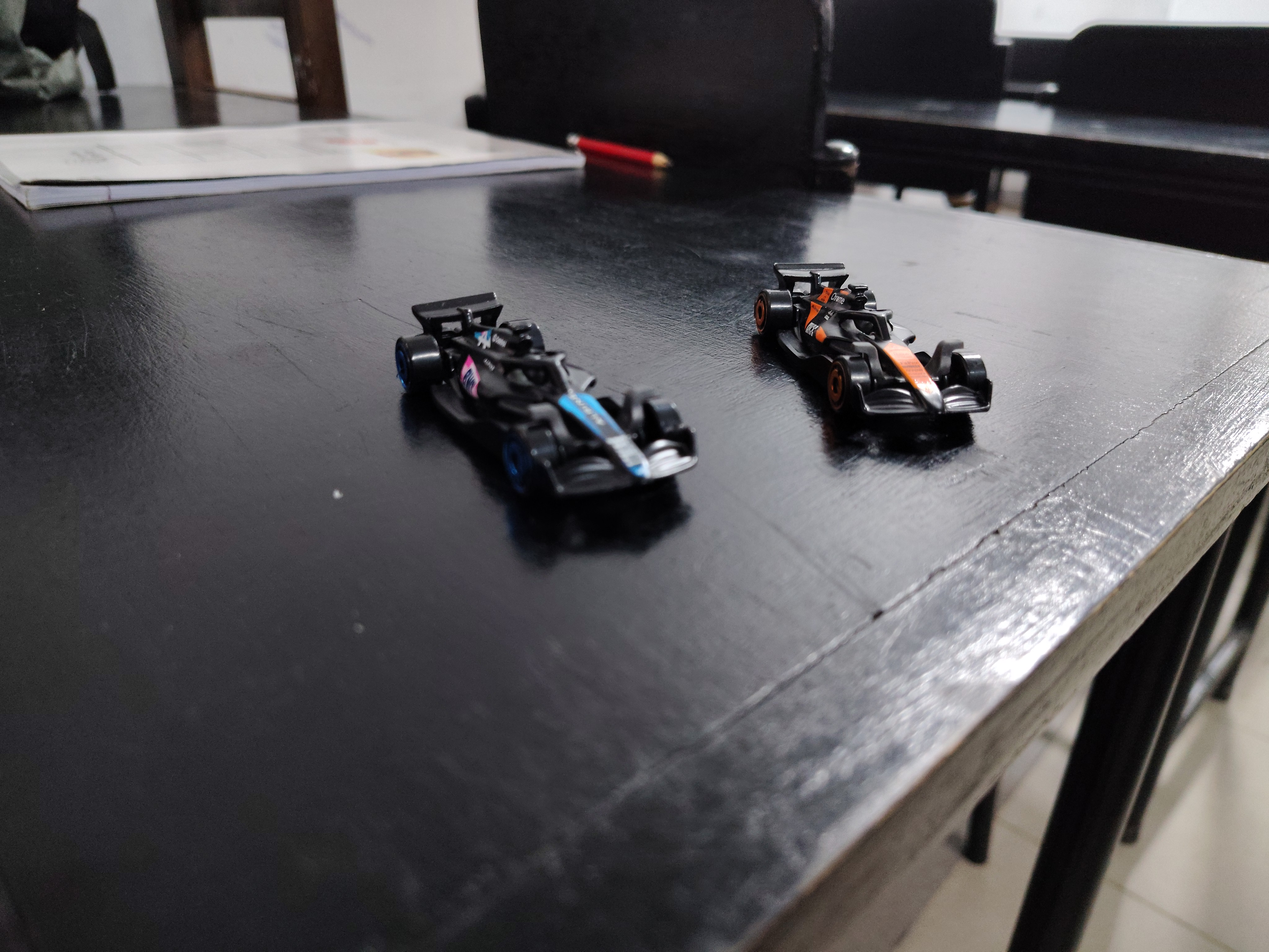Alpine A524: (270, 225, 742, 553)
McLaren MCL40: (686, 192, 1019, 452)
